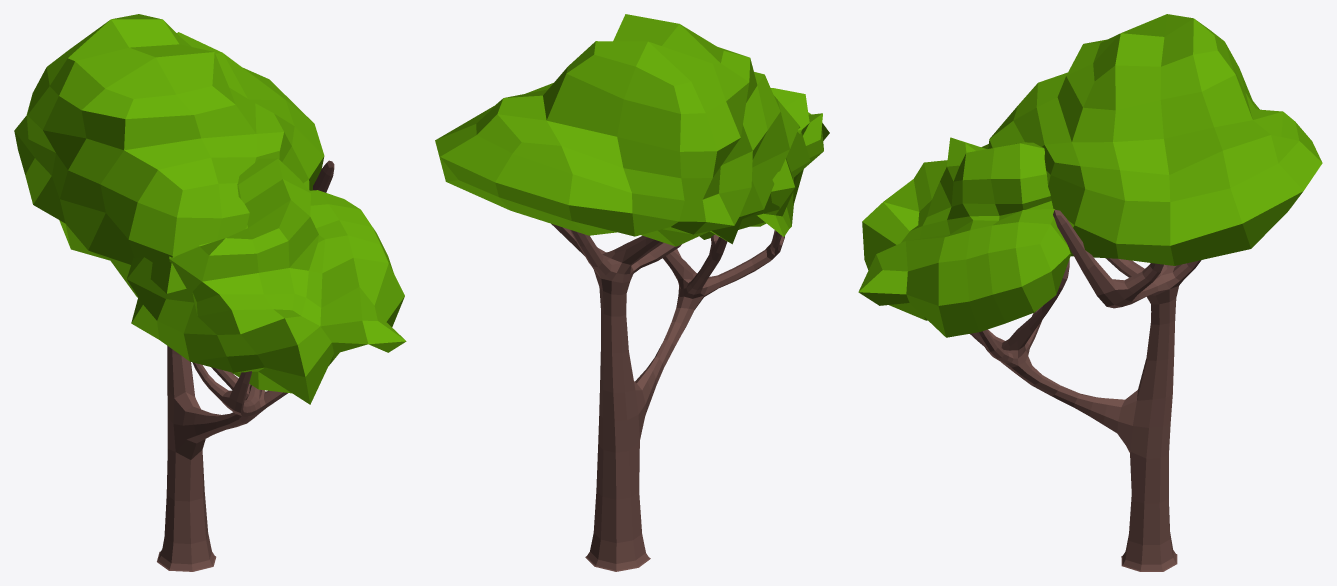
File: Tree3.glb
3 views of the same model, side by side, from view 1: azimuth 30°, elevation 25°; view 2: azimuth 150°, elevation 25°; view 3: azimuth 270°, elevation 25° (orthographic). The views are drawn at different scales.
Visible parts, largest first — view 1: CommonTree_2; view 2: CommonTree_2; view 3: CommonTree_2.
Part boxes in pixels (bbox=[...]): CommonTree_2: bbox=[14, 14, 406, 571]; CommonTree_2: bbox=[435, 14, 829, 571]; CommonTree_2: bbox=[858, 14, 1322, 571].
Size of the model in its own units: 1.66 by 3.12 by 2.54.
